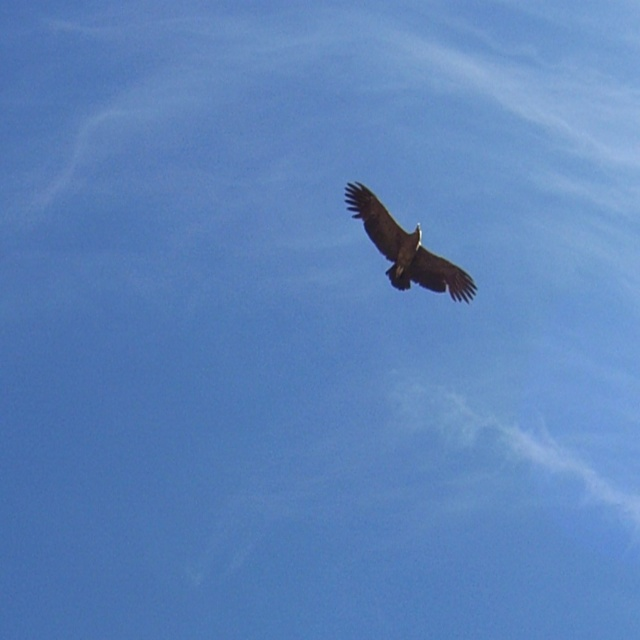Eagle: (346, 182, 475, 307)
